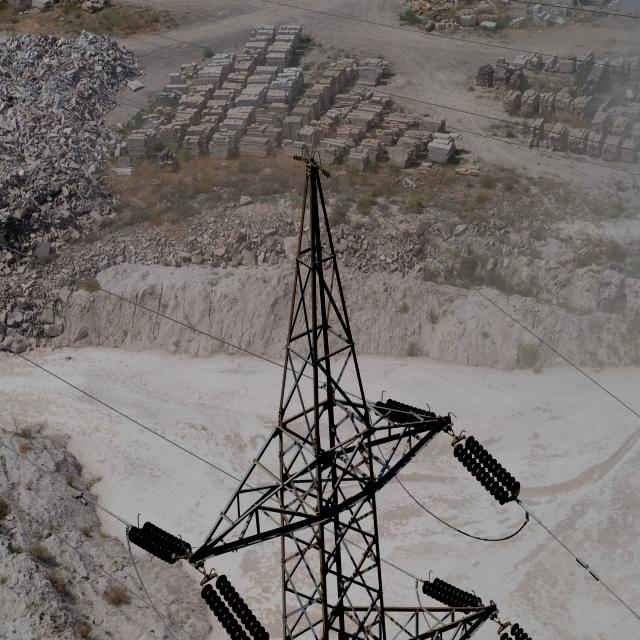voltage_line: (201, 180, 419, 614)
